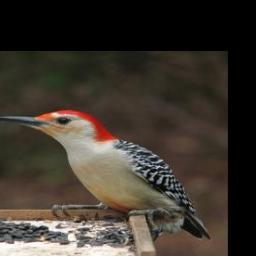Woodpecker: (0, 109, 214, 242)
